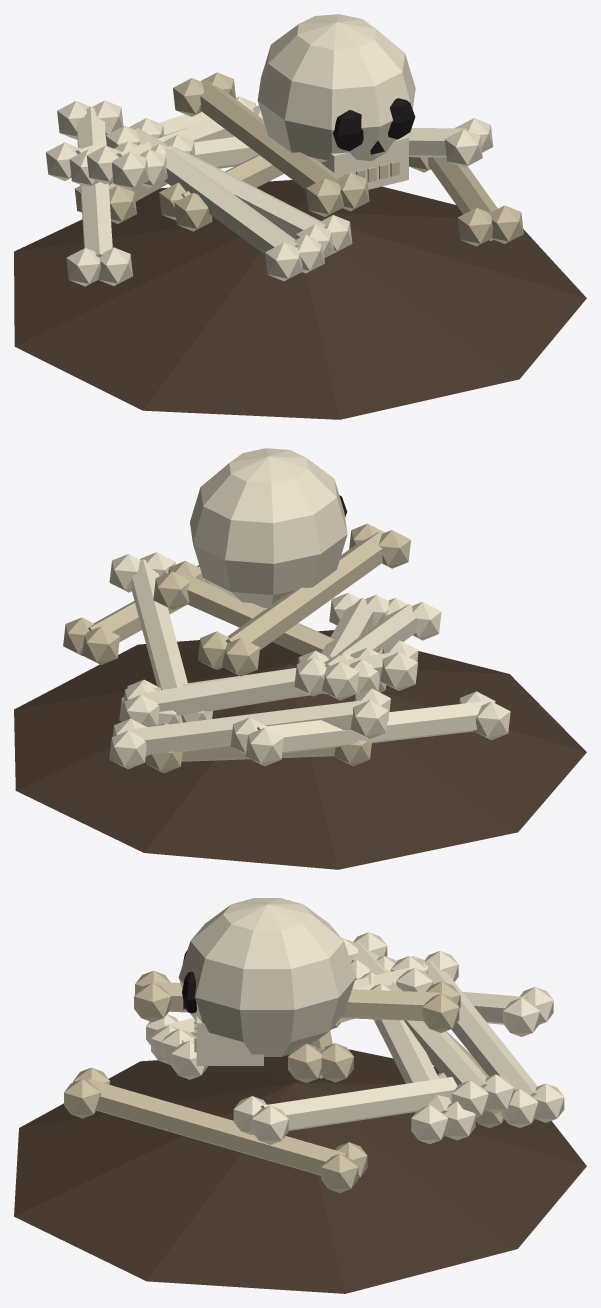
Rendered from BonePile.fbx.
3 views of the same model, one above another, from view 1: azimuth 30°, elevation 25°; view 2: azimuth 150°, elevation 25°; view 3: azimuth 270°, elevation 25° (orthographic).
Visible parts, largest first — view 1: BonePile; view 2: BonePile; view 3: BonePile.
Part boxes in pixels (x1=…): BonePile: x1=14, y1=14, x2=586, y2=419; BonePile: x1=14, y1=448, x2=586, y2=869; BonePile: x1=14, y1=898, x2=586, y2=1293.
Size of the model in its own units: 438 by 234 by 426.
1 material, 1 textured.
